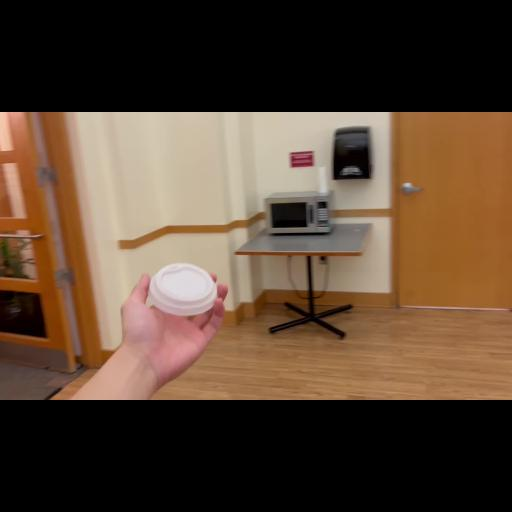lp_cup_lids: (148, 262, 218, 316)
